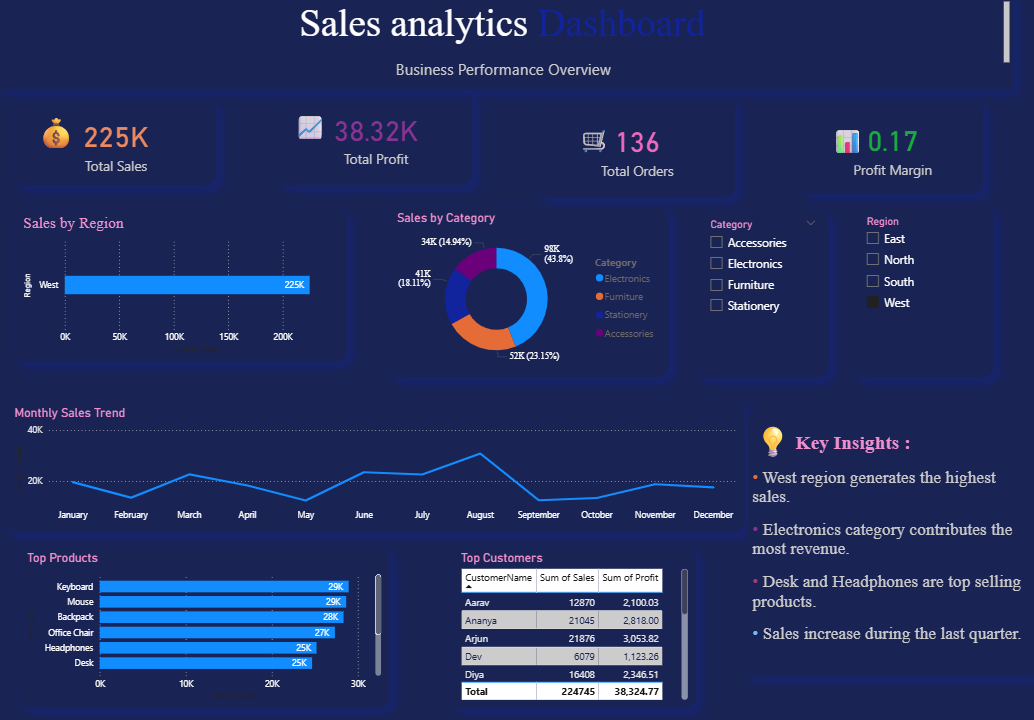

What the dashboard file says about the page in this screenshot:
{"tool":"powerbi","page":{"name":"Page 1","canvas":[1450,1000],"ordinal":0},"visuals":[{"type":"card","fields":{"Values":["powerbi_sales_dataset.Total Sales"]},"box":[23.3,143.3,276.7,115],"z":0},{"type":"card","fields":{"Values":["powerbi_sales_dataset.Total Profit"]},"box":[388.3,126.7,266.7,131.7],"z":1000},{"type":"card","fields":{"Values":["powerbi_sales_dataset.Total Orders"]},"box":[746.7,140,270,135],"z":2000},{"type":"card","fields":{"Values":["powerbi_sales_dataset.Profit Margin"]},"box":[1108.3,143.3,250,126.7],"z":3000},{"type":"clusteredBarChart","title":"Sales by Region","fields":{"Category":["powerbi_sales_dataset.Region"],"Y":["Sum(powerbi_sales_dataset.Sales)"]},"box":[23.3,293.3,456.7,208.3],"z":4000},{"type":"donutChart","title":"Sales by Category","fields":{"Category":["powerbi_sales_dataset.Category"],"Y":["Sum(powerbi_sales_dataset.Sales)"]},"box":[540,288.3,385,235],"z":5000},{"type":"lineChart","title":"Monthly Sales Trend","fields":{"Category":["powerbi_sales_dataset.Date.Variation.Date Hierarchy.Month"],"Y":["Sum(powerbi_sales_dataset.Sales)"]},"box":[12.5,557.5,1017.5,180],"z":6000},{"type":"clusteredBarChart","title":"Top Products","fields":{"Category":["powerbi_sales_dataset.Product"],"Y":["Sum(powerbi_sales_dataset.Sales)"]},"box":[30,757.5,510,222.5],"z":7000},{"type":"tableEx","title":"Top Customers","fields":{"Values":["powerbi_sales_dataset.CustomerName","Sum(powerbi_sales_dataset.Sales)","Sum(powerbi_sales_dataset.Profit)"]},"box":[627.5,757.5,335,222.5],"z":8000},{"type":"slicer","fields":{"Values":["powerbi_sales_dataset.Category"]},"box":[963.3,293.3,181.7,230],"z":9000},{"type":"slicer","fields":{"Values":["powerbi_sales_dataset.Region"]},"box":[1180,288.3,193.3,235],"z":10000},{"type":"textbox","box":[1035,592.5,395,342.5],"z":11000},{"type":"textbox","box":[44.1,150.8,62.7,74.6],"z":12000},{"type":"textbox","box":[403.3,151.7,48.3,60],"z":13000},{"type":"textbox","box":[794.9,169.5,47.5,61],"z":14000},{"type":"textbox","box":[1145,170,50,60],"z":15000},{"type":"textbox","box":[0,0,1400,125.9],"z":16000},{"type":"textbox","box":[1035,575,60,72.5],"z":17000}]}

Visuals, with their boxes in screenshot pixels (x1, y1, x2, y2), scaled from the page's 1450x1000 canvas onto the 1034x720 screenshot:
card - powerbi_sales_dataset.Total Sales: 17/103/214/186
card - powerbi_sales_dataset.Total Profit: 277/91/467/186
card - powerbi_sales_dataset.Total Orders: 532/101/725/198
card - powerbi_sales_dataset.Profit Margin: 790/103/969/194
"Sales by Region" clusteredBarChart: 17/211/342/361
"Sales by Category" donutChart: 385/208/660/377
"Monthly Sales Trend" lineChart: 9/401/734/531
"Top Products" clusteredBarChart: 21/545/385/706
"Top Customers" tableEx: 447/545/686/706
slicer - powerbi_sales_dataset.Category: 687/211/817/377
slicer - powerbi_sales_dataset.Region: 841/208/979/377
textbox: 738/427/1020/673
textbox: 31/109/76/162
textbox: 288/109/322/152
textbox: 567/122/601/166
textbox: 817/122/852/166
textbox: 0/0/998/91
textbox: 738/414/781/466
